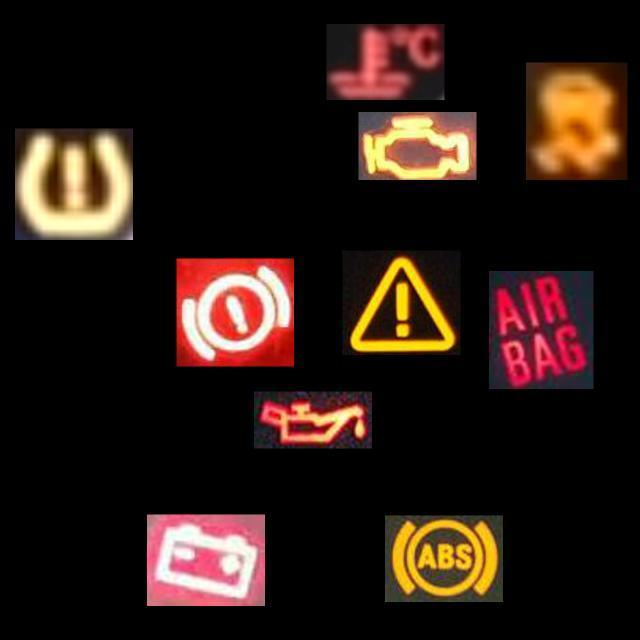Central Warning lamp: (342, 251, 460, 355)
Engine cooling system: (326, 24, 444, 100)
